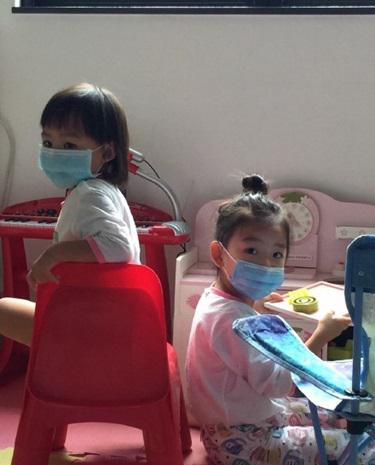OK: (38, 127, 99, 188)
WRONG: (226, 236, 291, 301)
